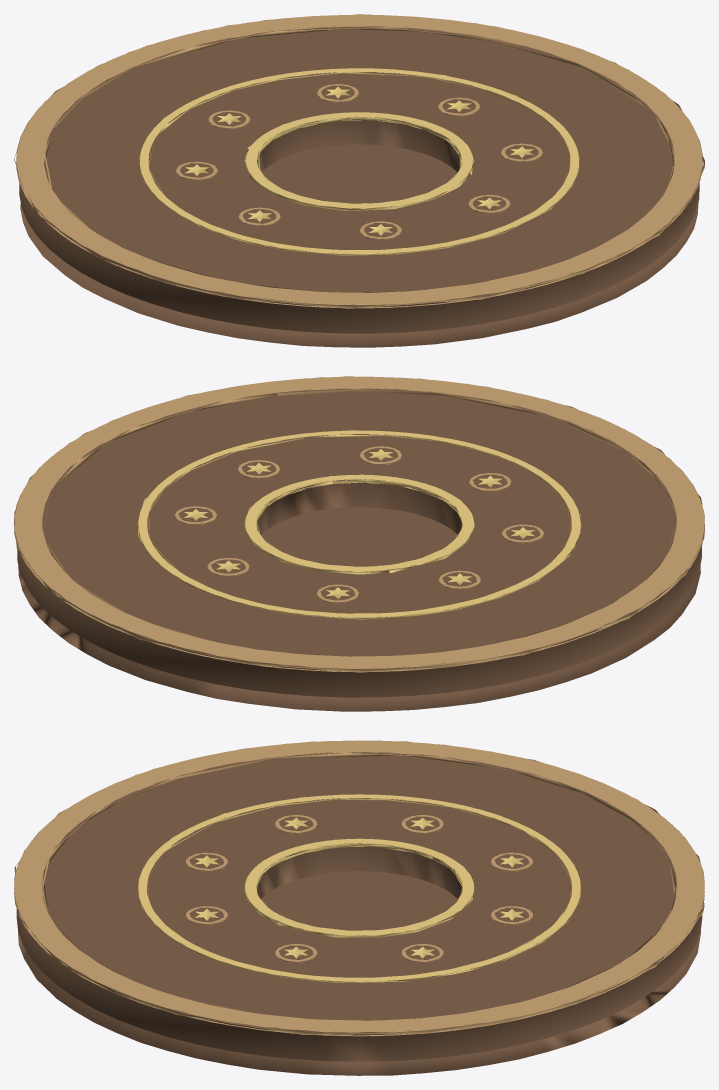
Rendered from boss_arena_deck.glb.
3 views of the same model, one above another, from view 1: azimuth 30°, elevation 25°; view 2: azimuth 150°, elevation 25°; view 3: azimuth 270°, elevation 25° (orthographic).
Visible parts, largest first — view 1: OuterWoodDeck, OuterWalnutRim, BottomDrum, MidBrassRing, InnerBrassFrame; view 2: OuterWoodDeck, OuterWalnutRim, BottomDrum, MidBrassRing, InnerBrassFrame; view 3: OuterWoodDeck, OuterWalnutRim, BottomDrum, MidBrassRing, InnerBrassFrame.
Part boxes in pixels (left/top/right/bottom): OuterWoodDeck: left=19, top=26, right=699, bottom=333; OuterWalnutRim: left=14, top=14, right=704, bottom=308; BottomDrum: left=20, top=144, right=698, bottom=347; MidBrassRing: left=139, top=68, right=579, bottom=255; InnerBrassFrame: left=244, top=112, right=474, bottom=210; OuterWoodDeck: left=17, top=388, right=701, bottom=697; OuterWalnutRim: left=14, top=376, right=704, bottom=672; BottomDrum: left=18, top=507, right=700, bottom=711; MidBrassRing: left=137, top=430, right=581, bottom=619; InnerBrassFrame: left=244, top=474, right=474, bottom=574; OuterWoodDeck: left=16, top=752, right=702, bottom=1061; OuterWalnutRim: left=14, top=740, right=704, bottom=1036; BottomDrum: left=18, top=871, right=700, bottom=1075; MidBrassRing: left=138, top=794, right=580, bottom=982; InnerBrassFrame: left=244, top=838, right=474, bottom=937.
Size of the model in its own units: 37.24 by 2.71 by 37.24.
